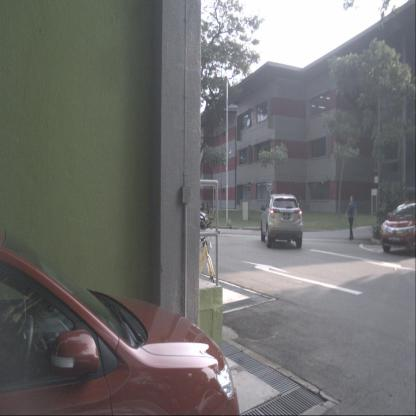human-pedestrian-adult: (344, 195, 357, 240), (204, 201, 209, 213), (200, 201, 204, 213)
vehicle-bicycle: (176, 220, 215, 288)
vehicle-car: (0, 226, 242, 415), (261, 194, 303, 248), (380, 199, 415, 257)
